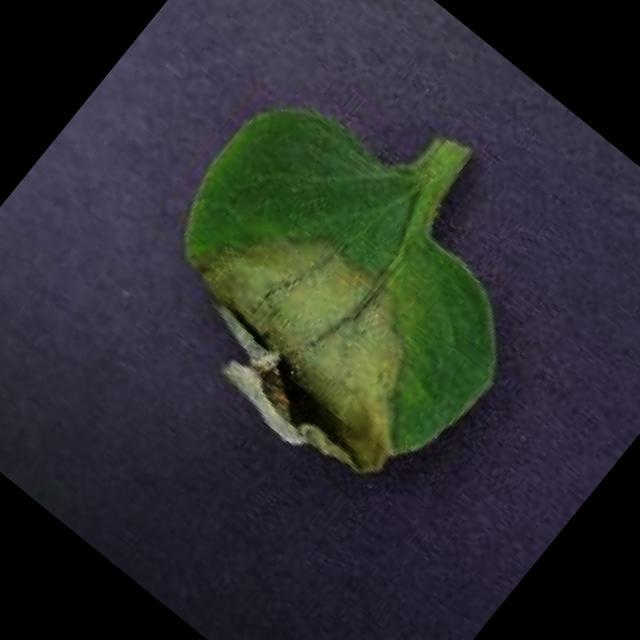Tomato late blight leaf: (102, 71, 565, 524)
